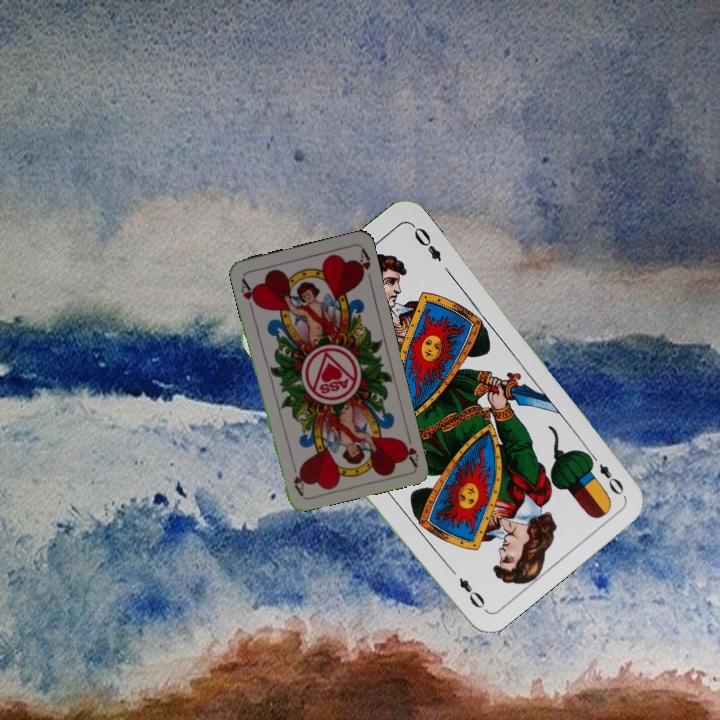EO: (584, 448, 627, 498)
HA: (396, 428, 421, 468), (237, 274, 260, 313)
